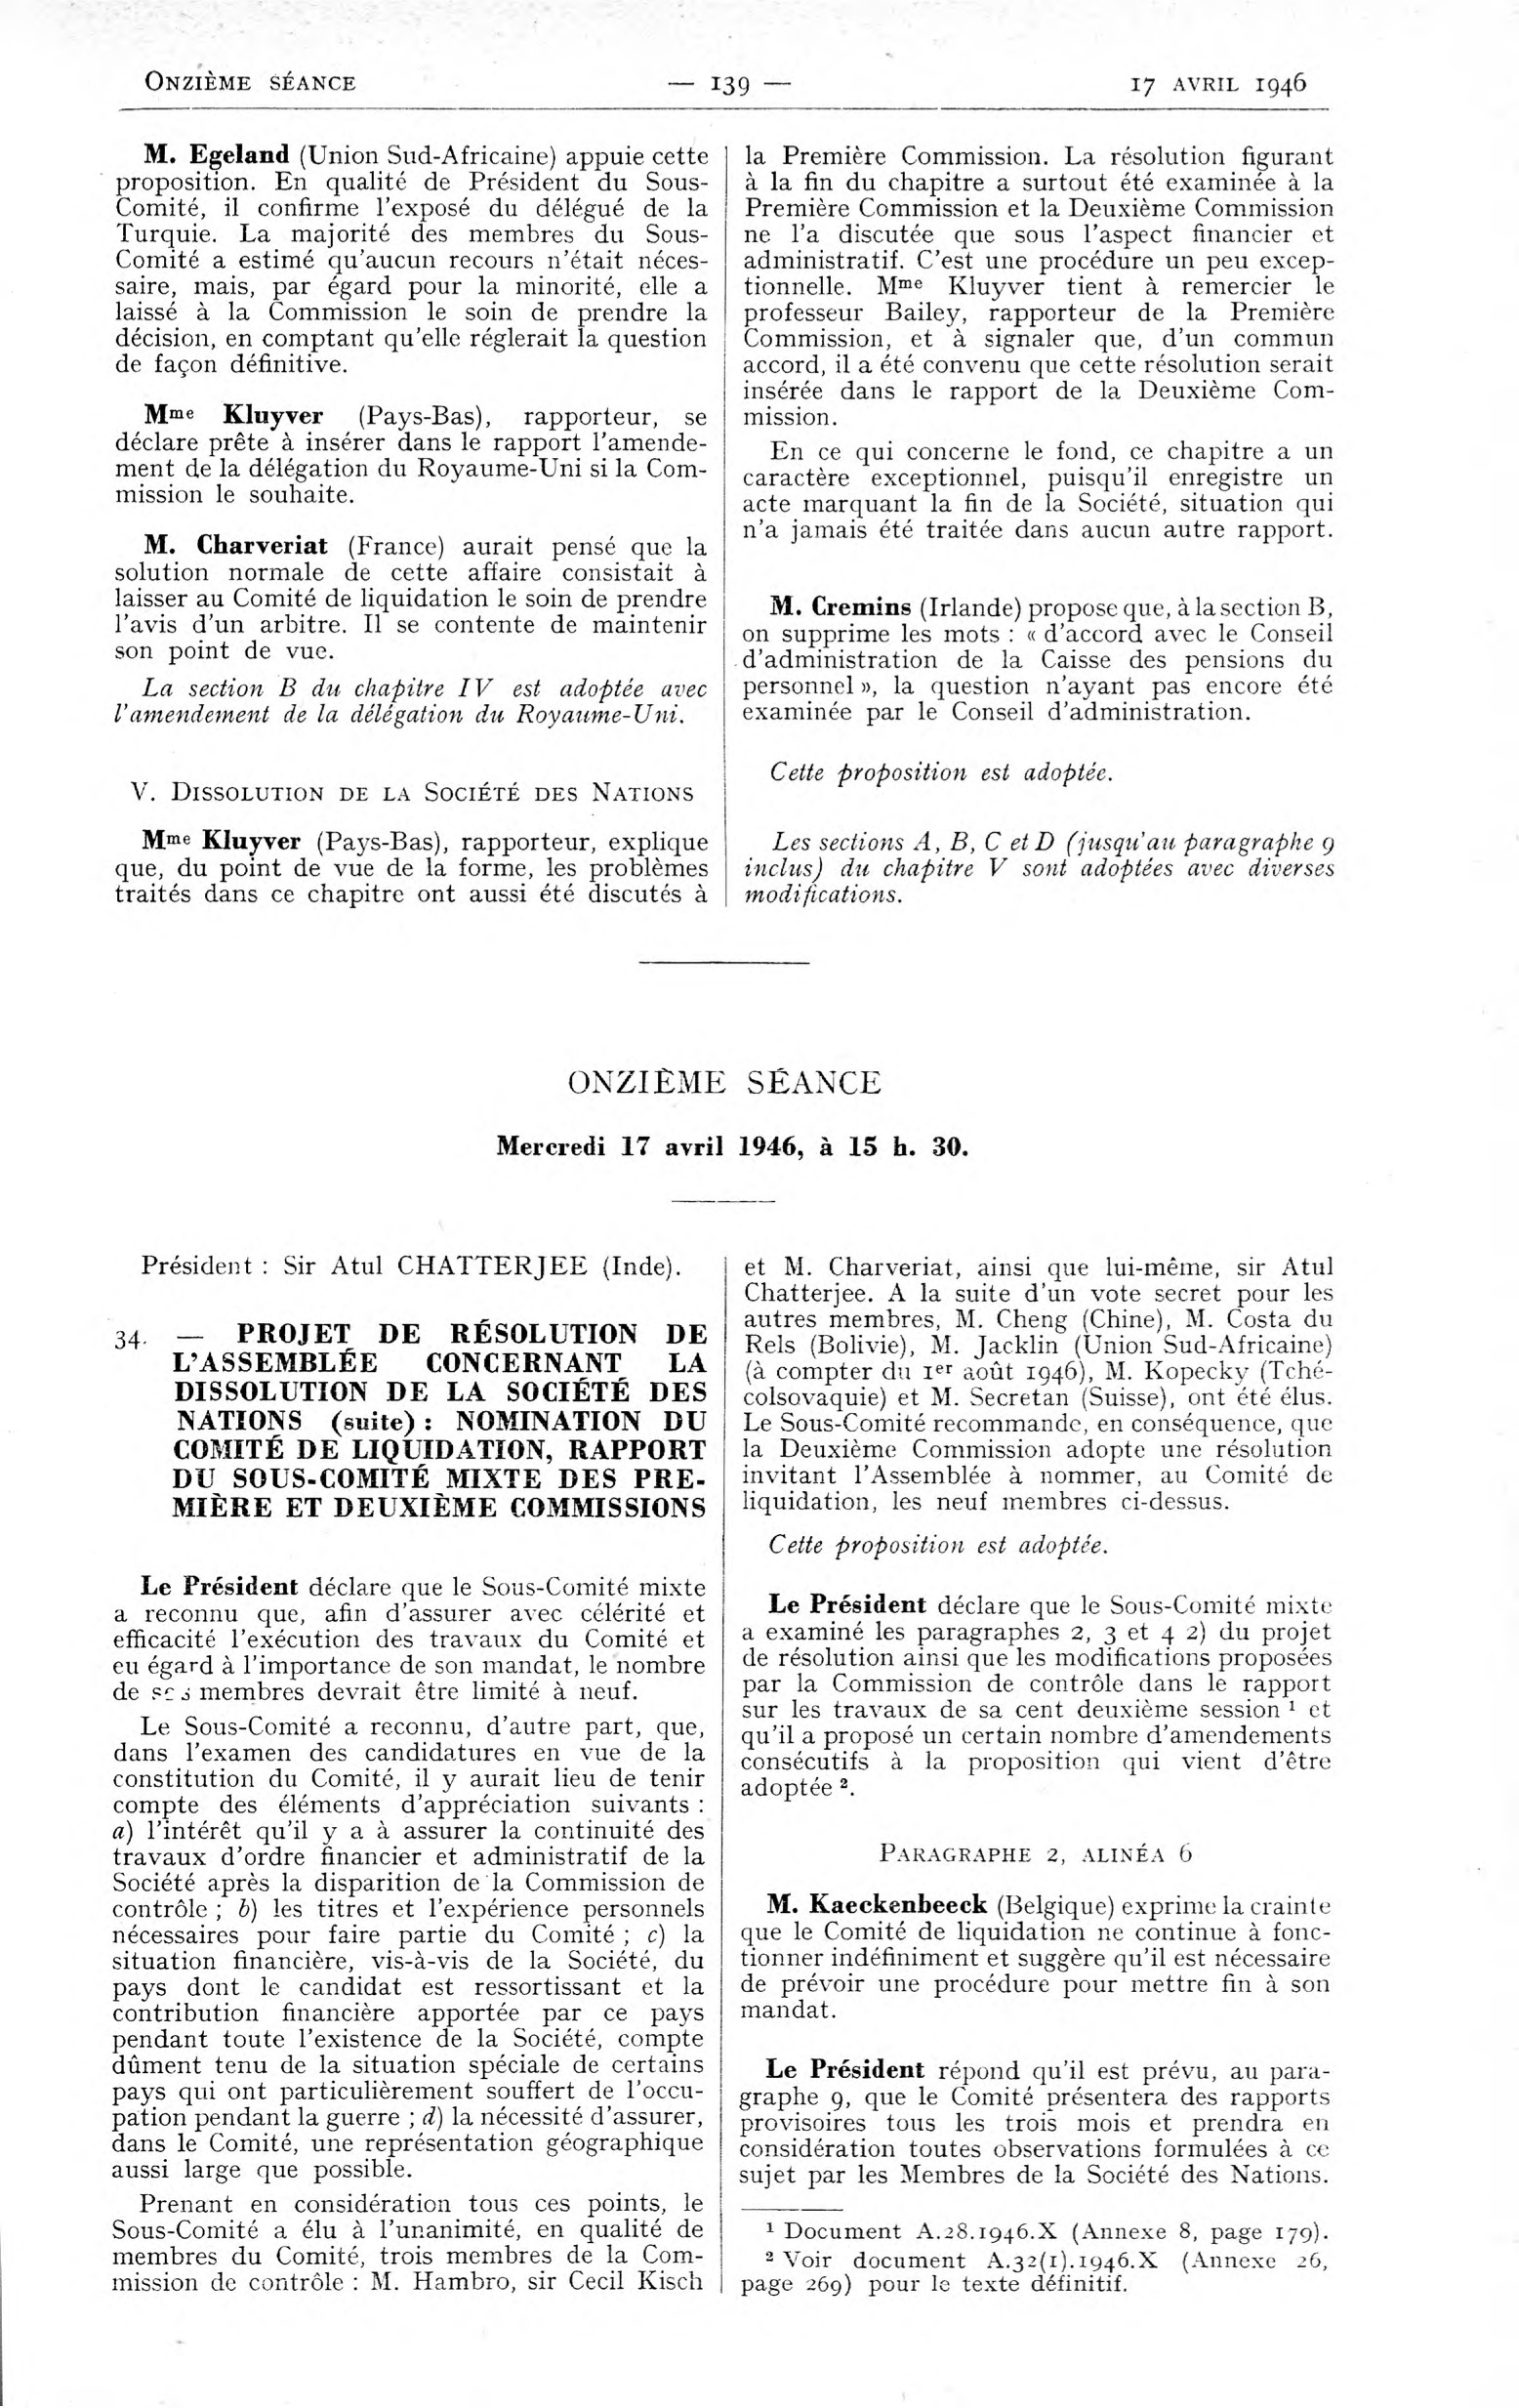MainZone-Continued: (737, 136, 1341, 433), (737, 1249, 1341, 1519)
MainZone-Date: (1121, 64, 1317, 104)
MainZone-Head: (103, 1309, 714, 1543), (115, 771, 714, 816), (485, 1123, 978, 1172), (559, 1058, 890, 1110), (871, 1834, 1205, 1875)
MainZone-P: (105, 1712, 713, 2186), (108, 133, 716, 383), (736, 1588, 1339, 1809), (736, 587, 1342, 731), (734, 1887, 1341, 2029), (733, 2052, 1339, 2194), (106, 527, 716, 667), (103, 1569, 714, 1708), (106, 396, 717, 514), (736, 435, 1343, 552), (103, 2188, 713, 2304), (106, 823, 716, 917), (739, 822, 1348, 916), (103, 670, 715, 737), (127, 1241, 693, 1290), (748, 753, 1122, 796), (751, 1526, 1126, 1568)
MarginTextZone-Notes: (733, 2245, 1339, 2306), (736, 2213, 1339, 2247)
StampZone: (138, 59, 364, 101)
TitlePageZone: (663, 67, 800, 107)
